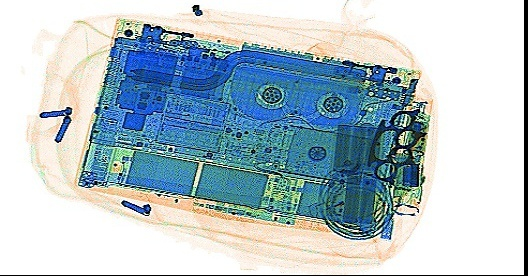lighter: (306, 195, 345, 220)
powerbank: (321, 120, 384, 228)
slingshot: (365, 106, 427, 186)
